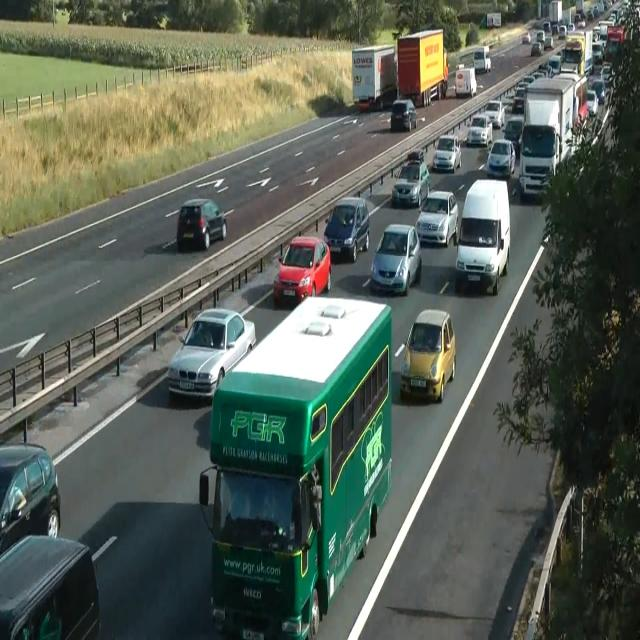bus: (0, 533, 100, 639), (167, 306, 257, 402), (0, 441, 60, 555), (398, 308, 456, 402), (273, 235, 331, 305), (369, 223, 422, 296), (323, 196, 370, 262), (176, 197, 227, 250), (414, 189, 458, 247), (392, 160, 429, 207), (486, 138, 516, 178), (432, 134, 461, 174), (390, 98, 417, 132), (467, 113, 492, 147), (503, 116, 523, 156), (481, 99, 505, 128), (589, 78, 605, 105), (586, 89, 598, 116), (547, 54, 561, 74), (407, 149, 424, 162), (530, 41, 542, 56), (544, 34, 554, 50), (558, 24, 566, 39), (522, 31, 530, 45), (536, 29, 544, 43)
car: (198, 294, 392, 638)
jeep: (455, 178, 510, 295), (518, 123, 559, 201)
minibus: (518, 72, 588, 201), (396, 28, 448, 106), (351, 44, 397, 111), (560, 28, 594, 76), (455, 64, 477, 98), (473, 45, 491, 74), (479, 12, 501, 28)
